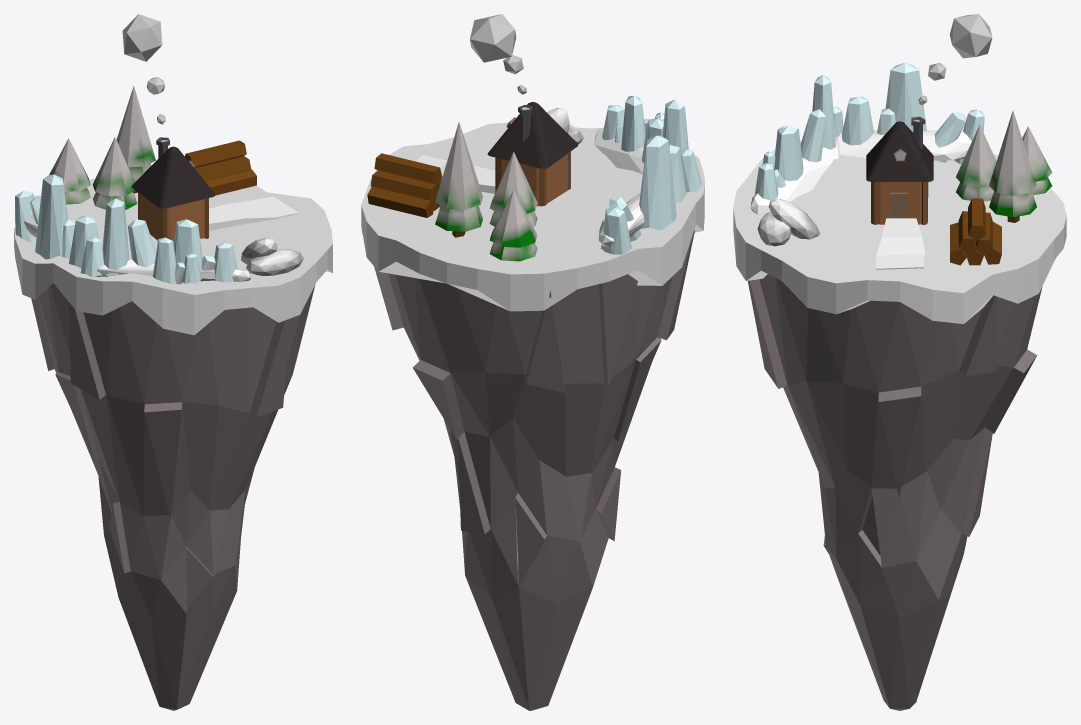
The model's file is WINTEROBJ.fbx.
3 renders of one model, left to right at view 1: azimuth 30°, elevation 25°; view 2: azimuth 150°, elevation 25°; view 3: azimuth 270°, elevation 25°, orthographic. The views are drawn at different scales.
Visible parts, largest first — view 1: Prostokąt; view 2: Prostokąt; view 3: Prostokąt.
Part boxes in pixels (x1,y1,x2,y2): Prostokąt: (14,14,332,710); Prostokąt: (361,14,704,710); Prostokąt: (733,14,1066,710).
Bounding box in the file's own units: 215 × 496 × 215.
